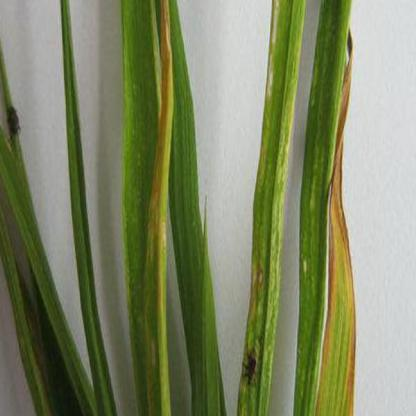rice-bug: (242, 347, 258, 385), (7, 102, 23, 137)
